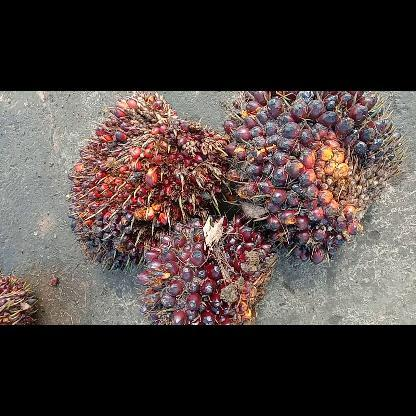Kurang masak: (224, 91, 398, 265), (140, 216, 274, 324)
TBS masak: (68, 91, 226, 268)
